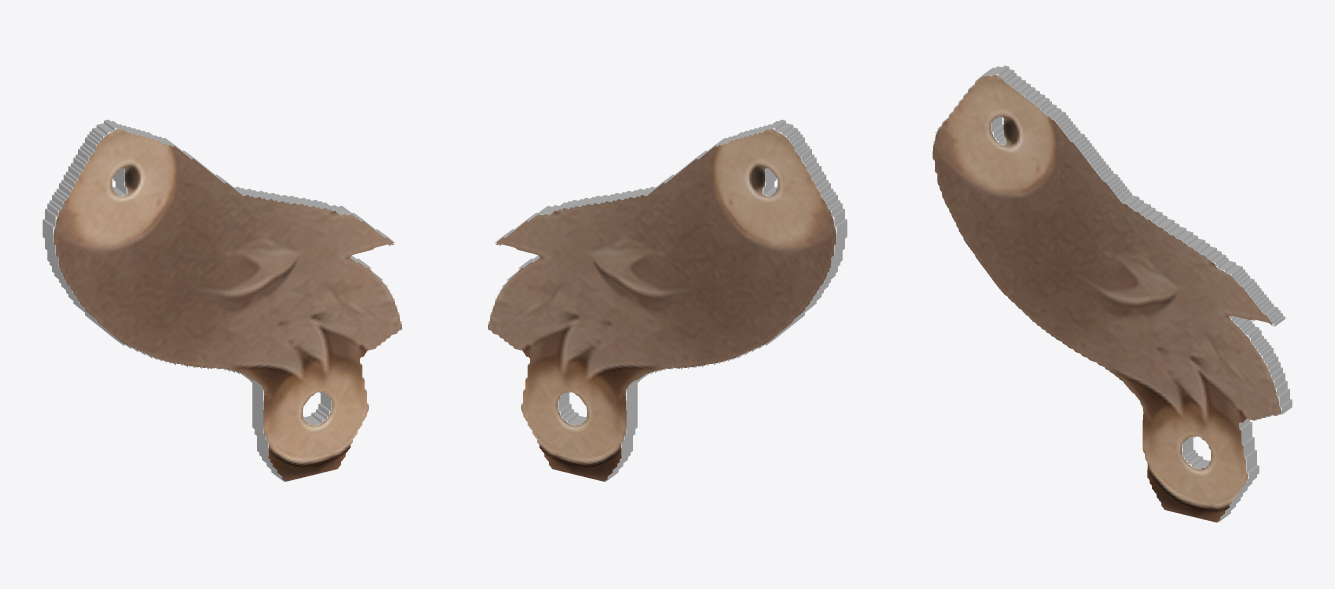
Rendered from Variant02Upper.glb.
The picture shows the model from 3 angles, left to right: view 1: azimuth 30°, elevation 25°; view 2: azimuth 150°, elevation 25°; view 3: azimuth 330°, elevation 25°; orthographic projection.
Visible parts, largest first — view 1: PaperVolume; view 2: PaperVolume; view 3: PaperVolume.
Part boxes in pixels (box(x1,y1,x2,y2)): PaperVolume: box(42, 119, 401, 481); PaperVolume: box(488, 119, 847, 481); PaperVolume: box(932, 65, 1292, 522).
Bounding box in the file's own units: 1.72 × 1.84 × 0.08.
3 materials, 2 textured.
